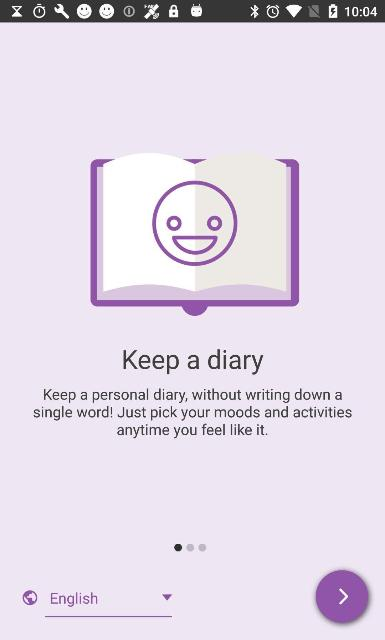Icon: (162, 594, 172, 600)
Image: (89, 152, 300, 316), (22, 590, 38, 604)
ImageButton: (316, 569, 368, 623)
PageIndicator: (174, 544, 206, 552)
Text: (32, 387, 353, 439), (122, 348, 264, 376), (51, 593, 97, 607)
UpperTaskBar: (0, 0, 384, 22)
